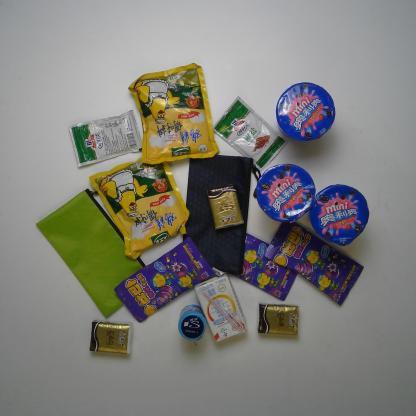Candy: (113, 236, 218, 324), (264, 219, 364, 306), (216, 230, 299, 302)
Dessert: (308, 183, 370, 247), (255, 163, 316, 224), (276, 82, 336, 141)
Gum: (178, 304, 206, 341)
Milk: (195, 273, 248, 343)
Seasoner: (88, 154, 191, 260), (128, 62, 220, 165), (211, 95, 288, 172), (67, 109, 144, 167)
Stationery: (36, 189, 147, 319), (182, 154, 262, 277)
Tissue: (207, 182, 244, 230), (89, 319, 133, 355), (258, 302, 300, 336)
